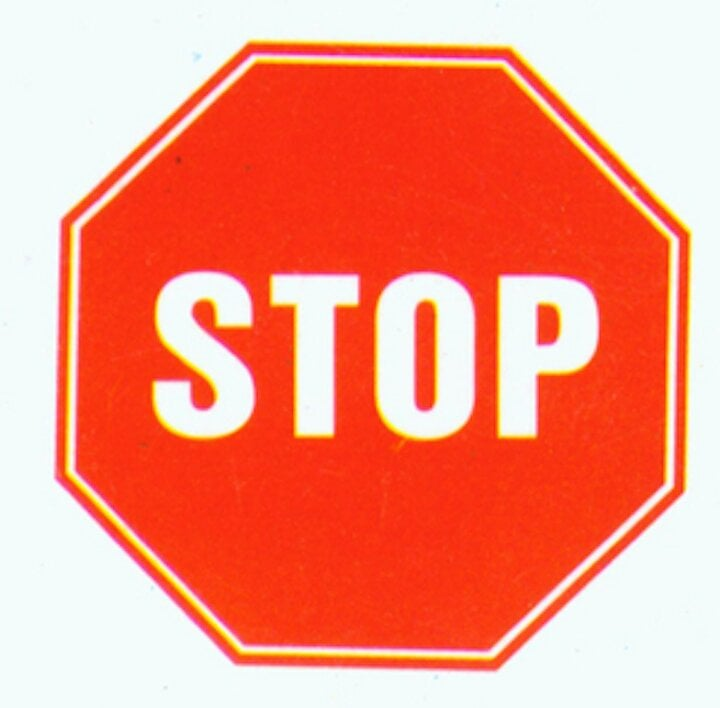Stop: (44, 31, 695, 678)
